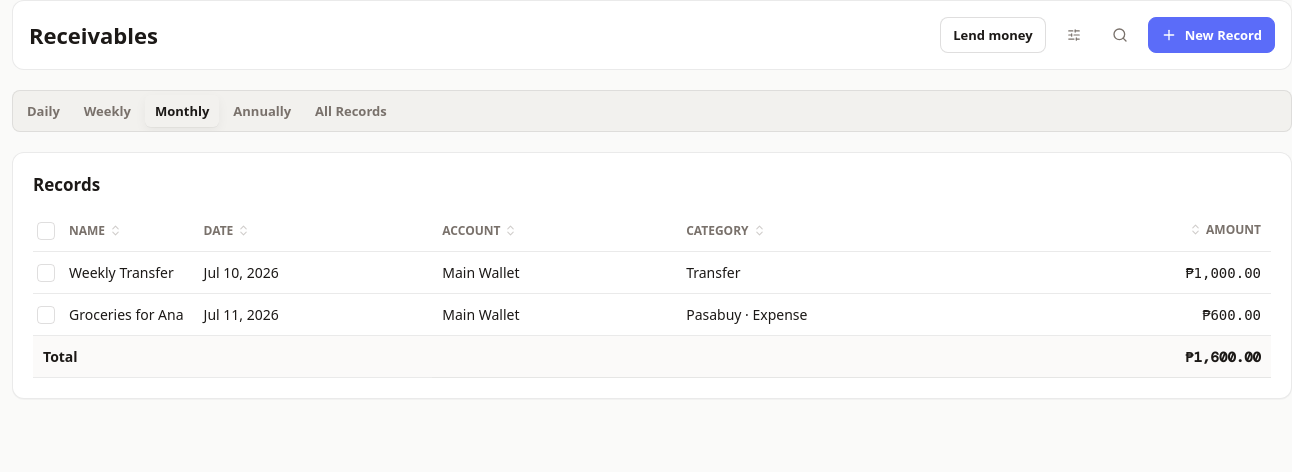
Test case: Workflow filters and fixed Savings › allows filtering Receivables with no receiving account
Check: the text "Weekly Transfer" is shown, box [33,252,194,294]
Click the button named "Filters" at (1074, 35), box [1056,19,1092,51]
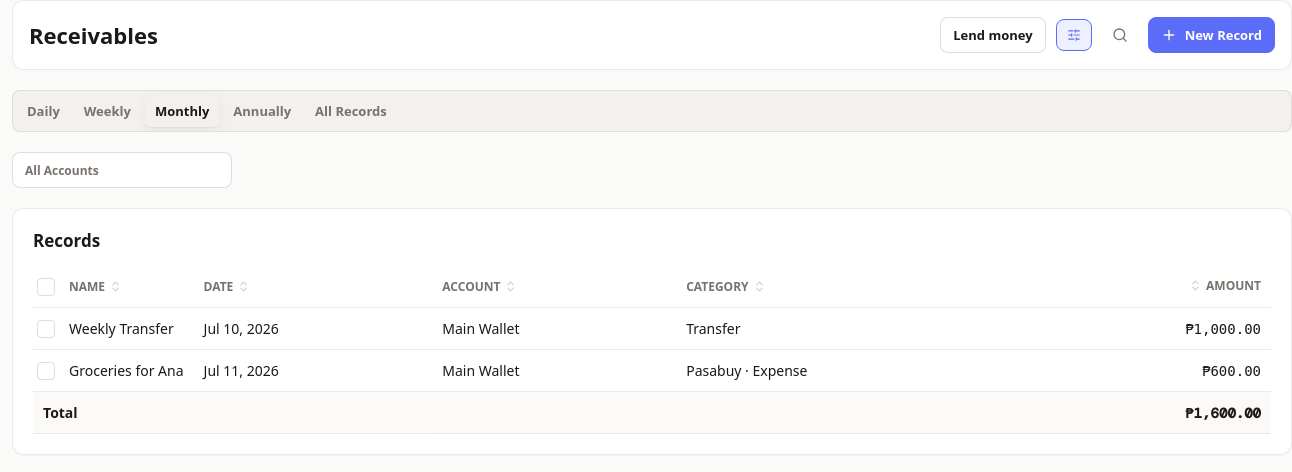
Click the button "All Accounts" at (122, 170), box [12,152,232,188]
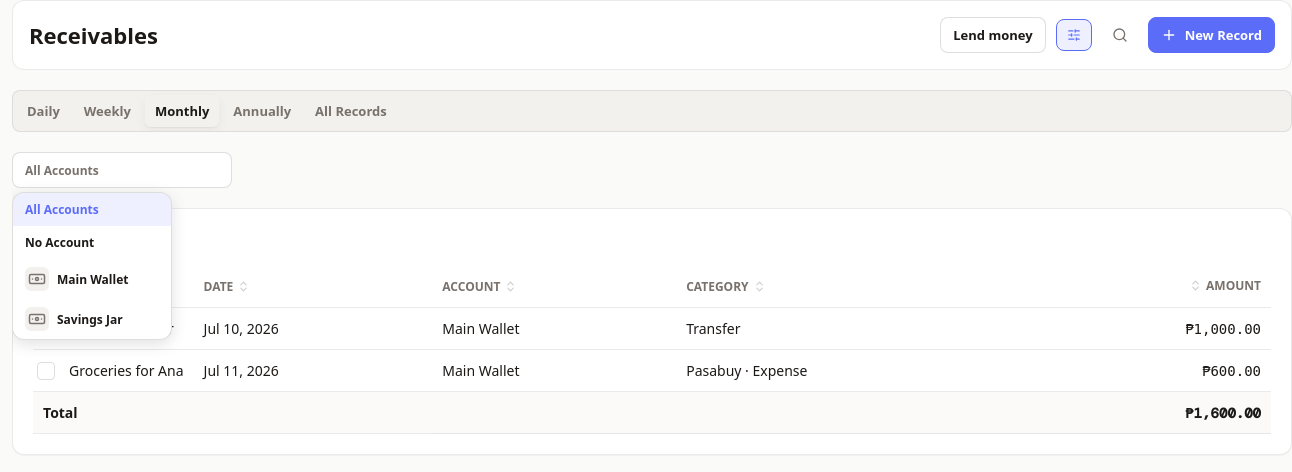
Click the button "No Account" at (92, 242), box [13,226,171,259]
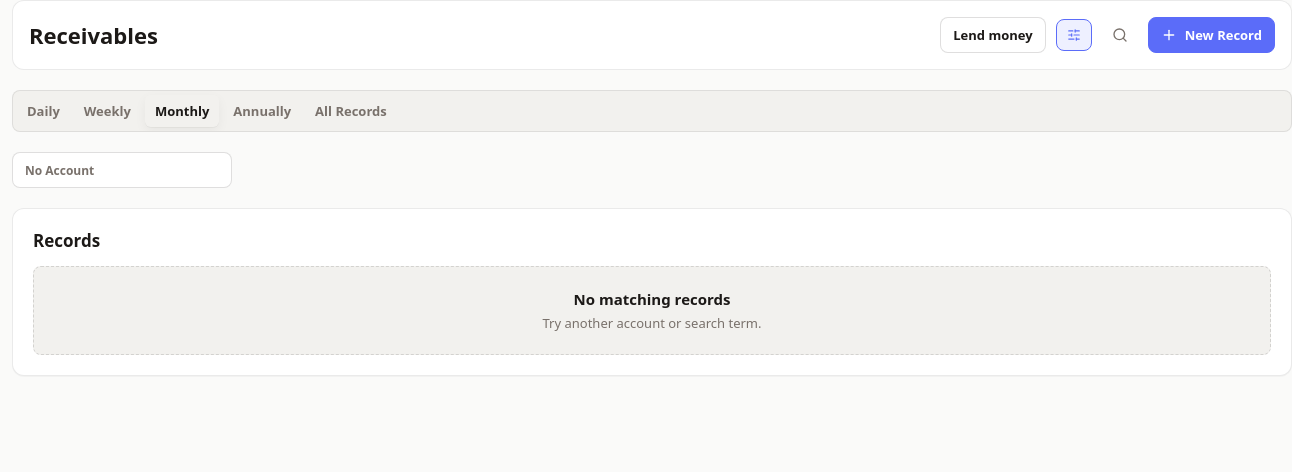
Check: the text "Weekly Transfer" is gone
